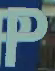Parking: (1, 0, 46, 69)
